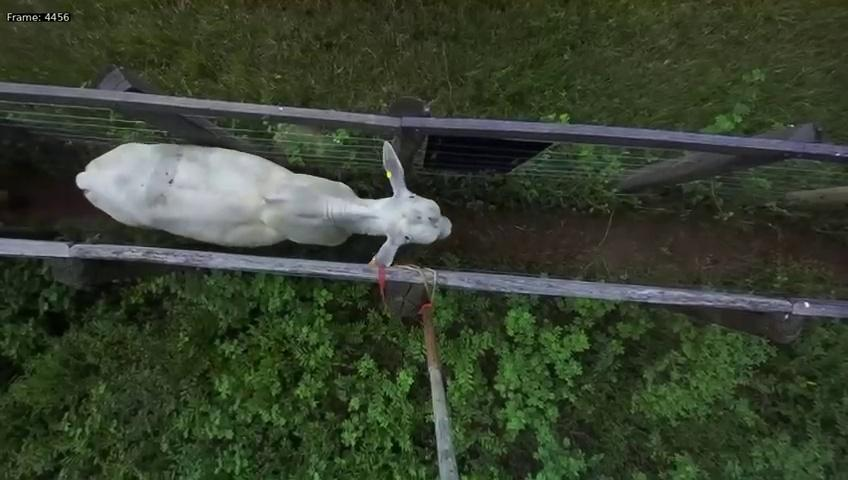cattle: (70, 137, 454, 268)
